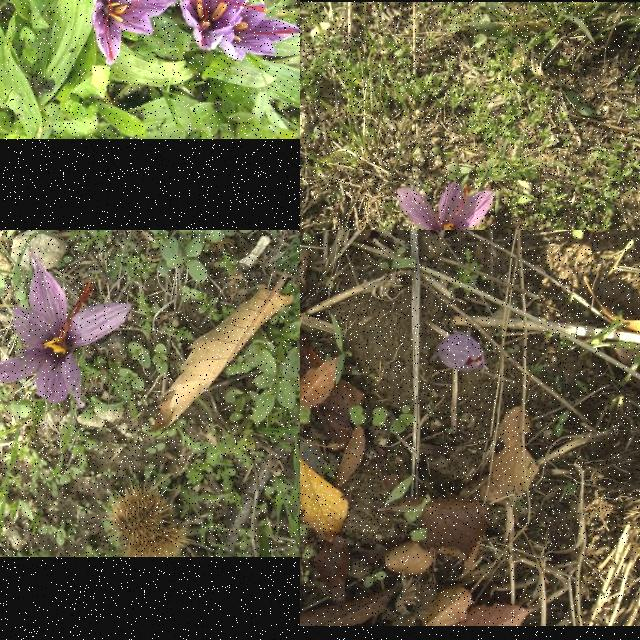flower: (0, 255, 132, 408), (92, 0, 174, 65), (397, 182, 497, 230), (435, 333, 485, 372)
overlap: (170, 0, 300, 62)
